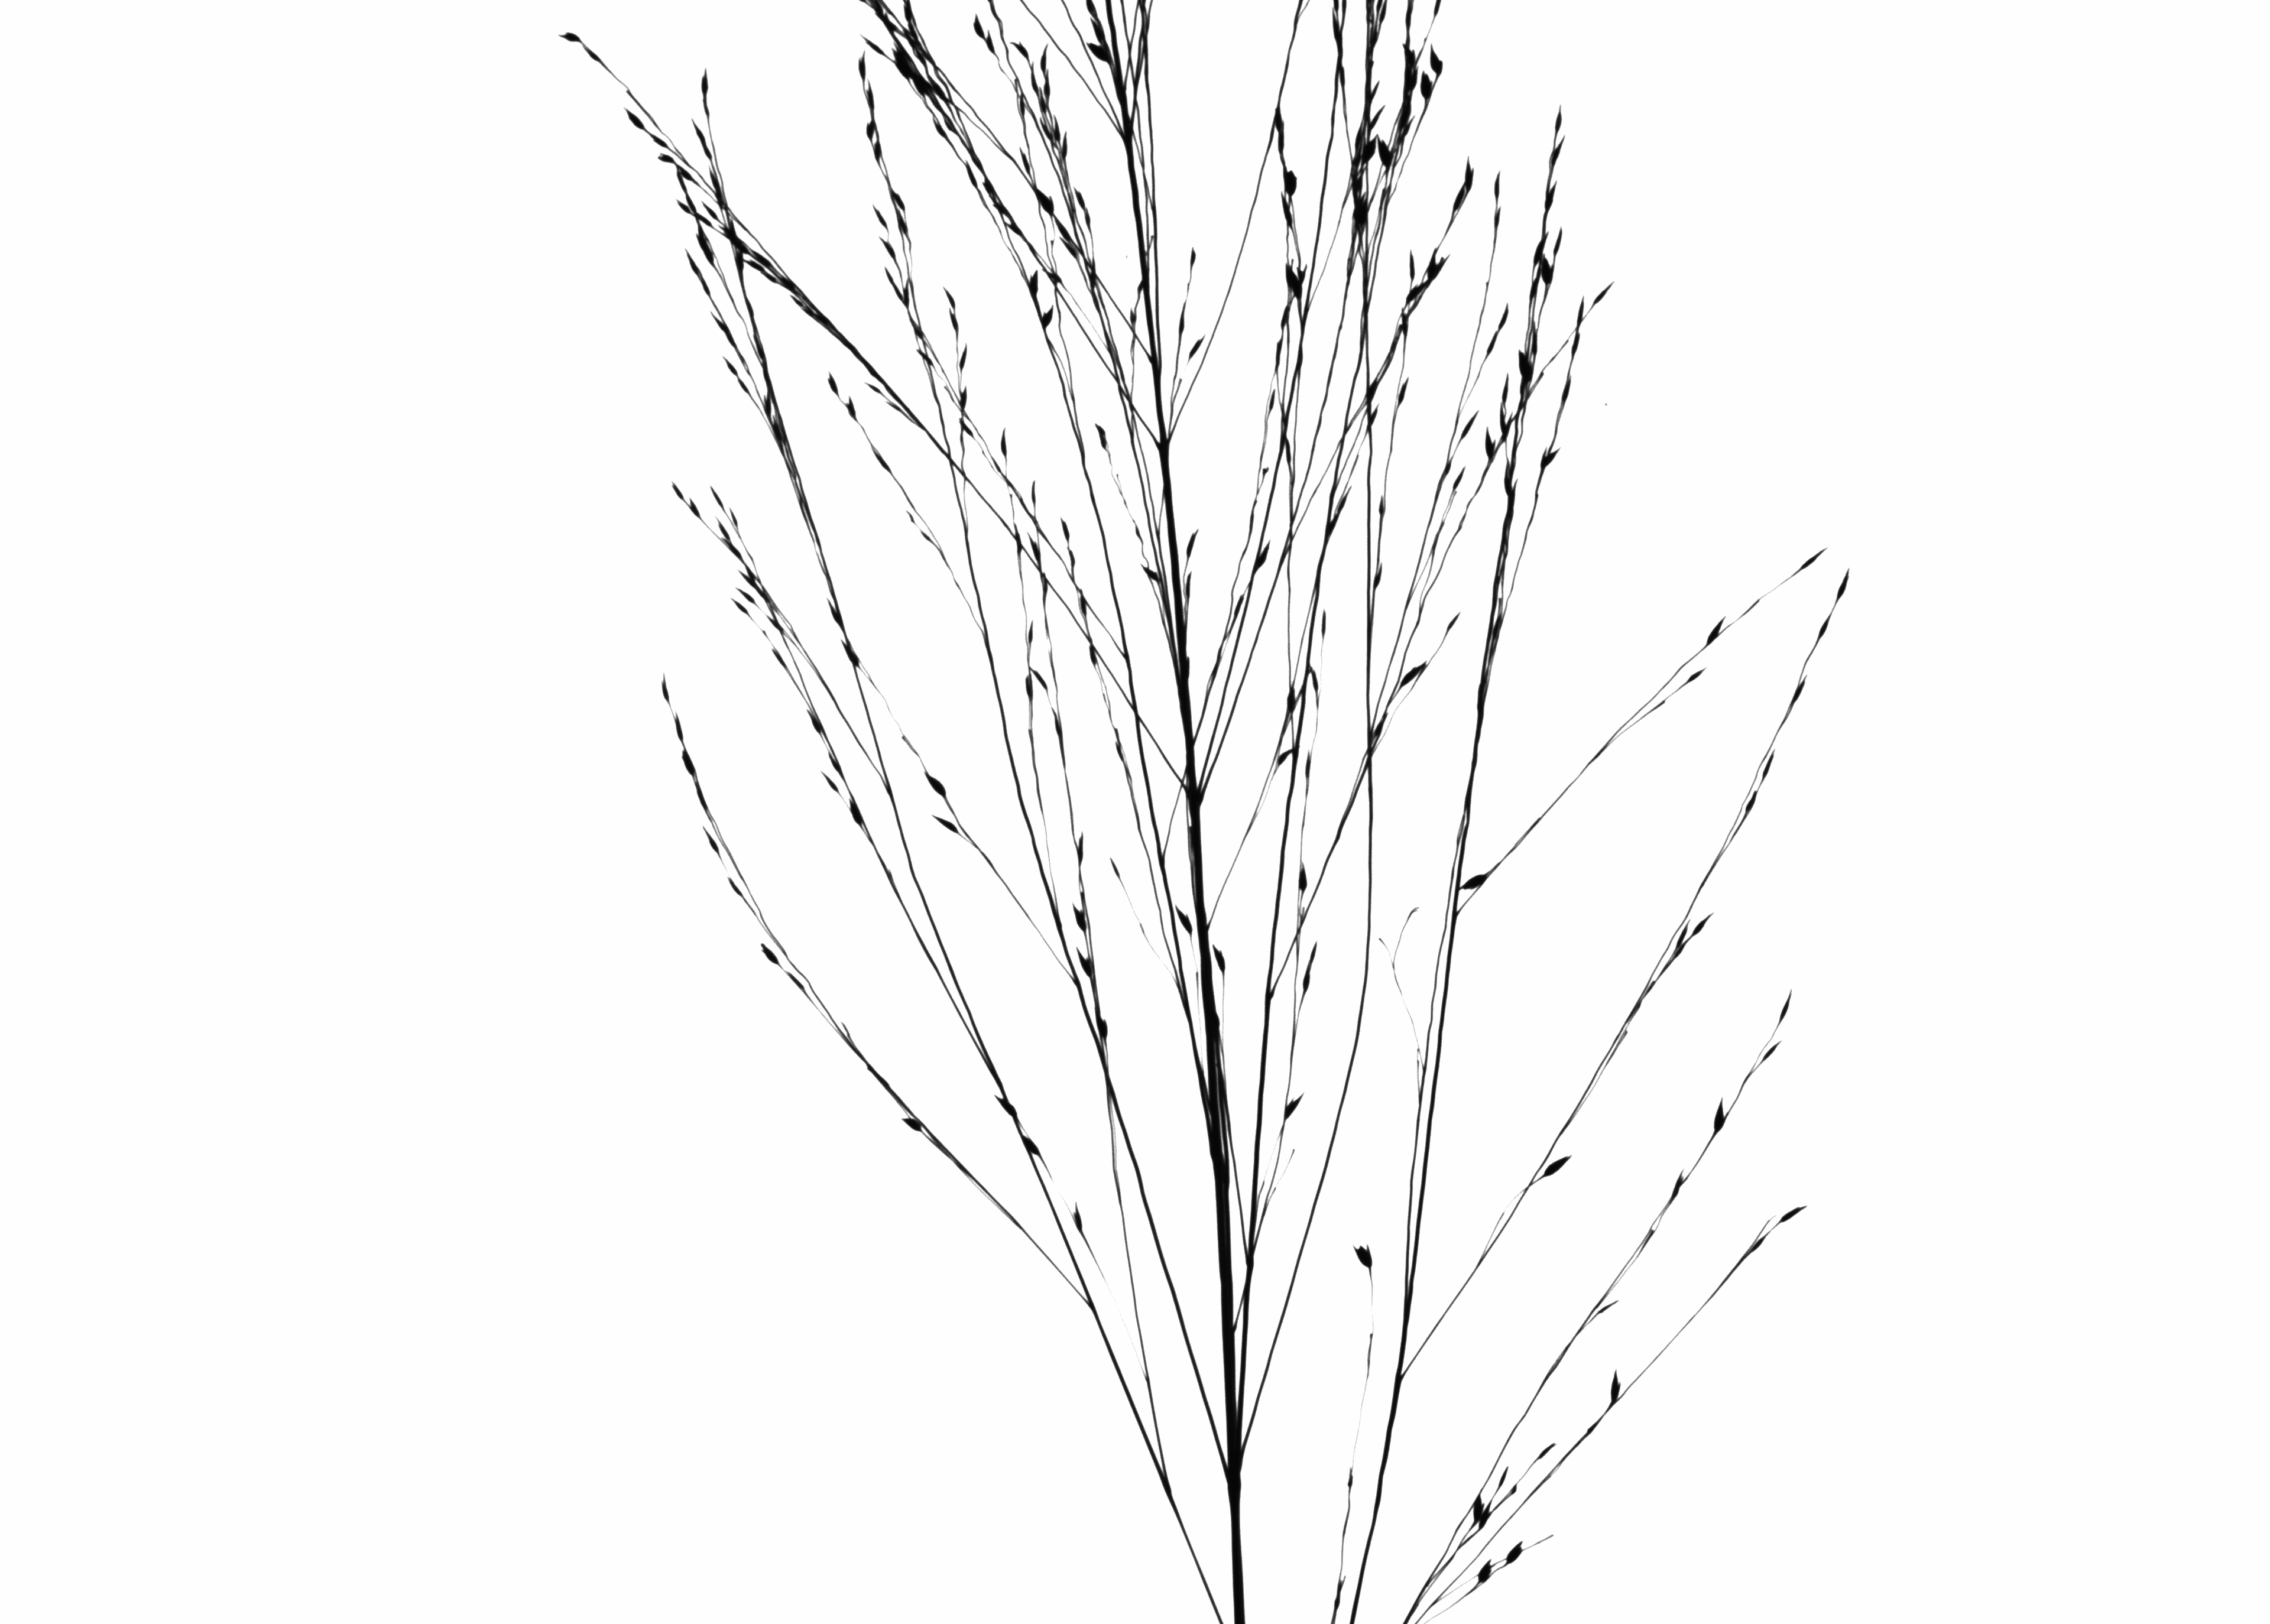seed: (1778, 536, 1834, 585), (1524, 1146, 1582, 1193), (1336, 1229, 1384, 1283), (1697, 1090, 1737, 1151), (1454, 852, 1500, 903), (1055, 1188, 1095, 1244), (1692, 610, 1732, 657), (1595, 1362, 1632, 1413), (832, 634, 872, 680), (689, 819, 731, 861), (1259, 102, 1294, 151), (1735, 773, 1771, 823), (1779, 666, 1813, 717), (1278, 1081, 1312, 1130), (737, 566, 775, 608), (747, 928, 786, 970), (918, 758, 957, 800), (1755, 1033, 1792, 1077), (649, 668, 689, 707), (1776, 1192, 1815, 1232), (1006, 1127, 1048, 1164), (1688, 905, 1721, 951), (925, 808, 971, 840), (1349, 185, 1375, 236), (1357, 70, 1386, 118), (1593, 1290, 1625, 1332), (1278, 258, 1308, 302), (988, 1084, 1025, 1120), (1322, 5, 1350, 49), (1398, 657, 1433, 692), (1169, 898, 1197, 940), (1060, 900, 1094, 935), (712, 527, 746, 562), (672, 745, 705, 780), (688, 116, 714, 160), (1505, 1529, 1532, 1573), (1373, 134, 1403, 172), (716, 874, 754, 903), (900, 1111, 937, 1141), (1665, 1165, 1690, 1209), (1073, 940, 1099, 981), (1832, 564, 1859, 605), (856, 28, 890, 60), (703, 308, 737, 339), (844, 794, 869, 837), (1774, 979, 1797, 1023), (1083, 37, 1115, 69), (816, 592, 848, 624), (1532, 1434, 1561, 1468), (1591, 274, 1619, 309), (1677, 666, 1714, 692), (1088, 417, 1111, 459), (1359, 98, 1379, 148), (1250, 538, 1275, 576), (881, 265, 906, 304), (693, 230, 717, 269), (1470, 1554, 1495, 1592), (680, 246, 707, 281), (703, 162, 726, 202), (1043, 703, 1066, 743), (1292, 859, 1315, 900), (1424, 39, 1449, 76), (619, 104, 647, 135), (802, 707, 830, 738), (1185, 330, 1211, 364), (1023, 529, 1048, 564), (1760, 745, 1783, 782), (1030, 183, 1057, 214), (1136, 562, 1168, 589), (1271, 742, 1298, 773), (702, 480, 726, 513), (1530, 230, 1551, 269), (1067, 824, 1088, 863), (1210, 939, 1231, 977), (1547, 135, 1570, 170), (1516, 344, 1535, 385), (1549, 100, 1570, 137), (1182, 527, 1203, 564), (731, 584, 763, 608), (1085, 14, 1108, 47), (1027, 663, 1053, 691), (818, 768, 842, 798), (1475, 1504, 1498, 1536), (1277, 192, 1296, 228), (717, 350, 742, 378), (890, 47, 913, 77), (1459, 408, 1481, 439), (1540, 181, 1561, 213), (1015, 144, 1036, 176), (1558, 374, 1575, 411), (1057, 236, 1081, 262), (906, 315, 930, 341), (869, 202, 893, 228), (1331, 58, 1350, 91), (1305, 661, 1324, 694), (1393, 374, 1412, 408), (1041, 265, 1069, 288), (876, 236, 899, 264), (726, 598, 754, 620), (1442, 608, 1463, 638), (1081, 640, 1102, 670), (668, 712, 689, 742), (1533, 443, 1549, 482), (1482, 424, 1498, 462), (960, 158, 979, 190), (893, 207, 913, 239), (865, 79, 881, 118), (552, 28, 584, 47), (712, 515, 733, 543), (823, 367, 840, 401), (1183, 566, 1197, 606), (580, 44, 605, 67), (913, 348, 937, 371), (888, 185, 911, 209), (684, 497, 707, 522), (1419, 72, 1435, 107), (1282, 682, 1298, 717), (1572, 294, 1588, 329), (1498, 297, 1516, 329), (1055, 513, 1076, 540), (1023, 615, 1039, 650), (1094, 1011, 1113, 1039), (695, 65, 714, 93), (1553, 223, 1568, 257), (1025, 60, 1041, 93), (726, 506, 744, 536), (1461, 151, 1473, 193), (1403, 246, 1417, 283), (1470, 1489, 1484, 1526), (1544, 446, 1563, 473), (930, 116, 949, 142), (941, 283, 960, 309), (702, 197, 721, 223), (673, 199, 700, 218), (844, 395, 863, 422), (1371, 559, 1387, 591), (1366, 401, 1382, 432), (1451, 462, 1468, 490), (1071, 183, 1088, 211), (1025, 269, 1043, 297), (1008, 39, 1030, 60), (665, 480, 686, 503), (999, 422, 1011, 460), (1041, 72, 1055, 105), (957, 341, 971, 374), (957, 417, 974, 443), (1262, 388, 1277, 420), (1284, 167, 1299, 195), (758, 392, 774, 420), (969, 11, 985, 39), (1108, 854, 1122, 886), (1039, 304, 1055, 332), (853, 49, 869, 77), (677, 167, 700, 186), (1319, 605, 1331, 640), (1498, 371, 1510, 406), (1491, 167, 1503, 202), (946, 308, 962, 334), (1498, 1462, 1514, 1489), (1062, 548, 1083, 568), (1036, 116, 1053, 139), (863, 380, 886, 397), (1306, 939, 1322, 963), (652, 151, 677, 167), (1076, 585, 1088, 617), (1303, 747, 1313, 782), (1491, 206, 1505, 232), (1015, 90, 1029, 116), (958, 383, 971, 413), (1059, 130, 1071, 160), (1041, 42, 1051, 76), (874, 132, 884, 165), (1301, 967, 1313, 995), (985, 28, 997, 56), (881, 401, 906, 415), (902, 274, 913, 306), (1030, 475, 1039, 511), (1081, 2, 1101, 18), (1375, 492, 1387, 517), (1187, 243, 1199, 267), (1134, 276, 1148, 295), (863, 120, 877, 139), (1125, 306, 1138, 327)
